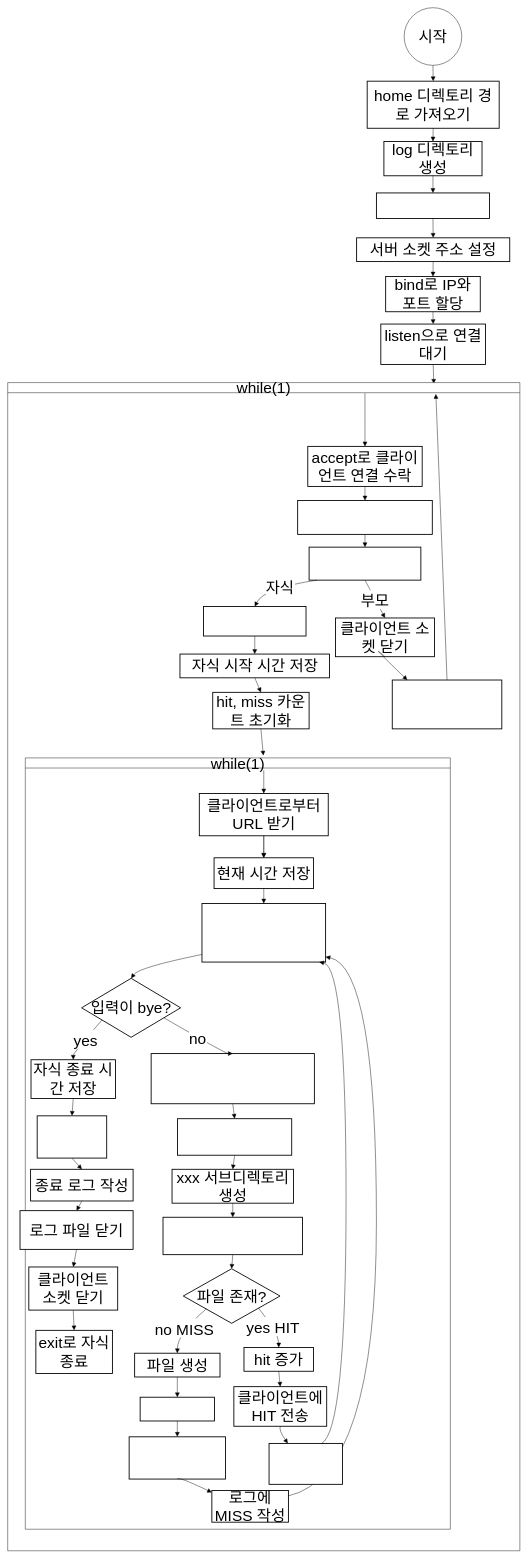
This 528x1558 diagram has some shape labels left out. The shapes that lost their labels are listed below. From the top down, each one's box as (x1, y1, x2, y2) in pixels, then its label:
(376, 192, 490, 219): 서버 소켓 생성
(297, 500, 433, 535): 연결 성공 로그 작성
(308, 546, 421, 580): fork로 자식 프로세스 생성
(203, 606, 306, 636): 서버 소켓 닫기
(392, 679, 502, 729): waitpid로 자식 종료 처리
(201, 903, 326, 962): 로그 디렉토리 이동 후 로그 파일 열기
(150, 1053, 315, 1104): SHA1 해싱 → 디렉토리명과 파일명 추출
(37, 1115, 107, 1158): 실행 시간 계산
(177, 1118, 292, 1155): cache 디렉토리 생성
(162, 1217, 303, 1255): 파일 존재 여부 확인
(139, 1397, 215, 1421): miss 증가
(128, 1436, 226, 1479): 클라이언트에 MISS 전송
(268, 1443, 343, 1485): 로그에 HIT 작성
